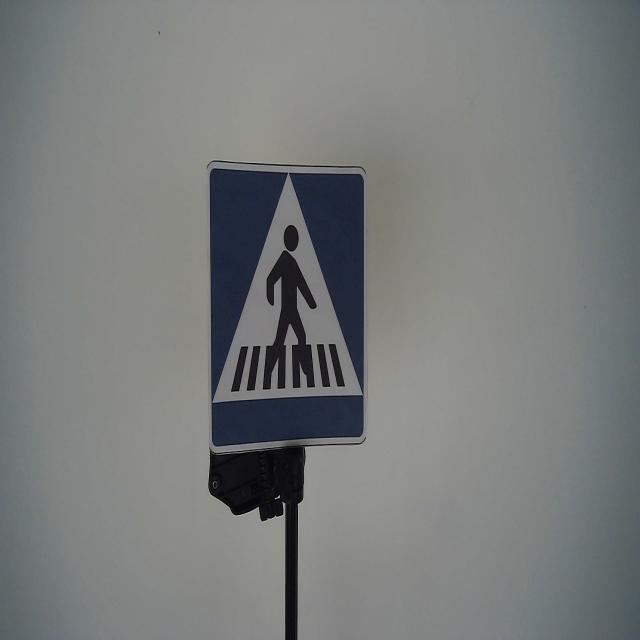crosswalk_sign: (204, 158, 370, 459)
